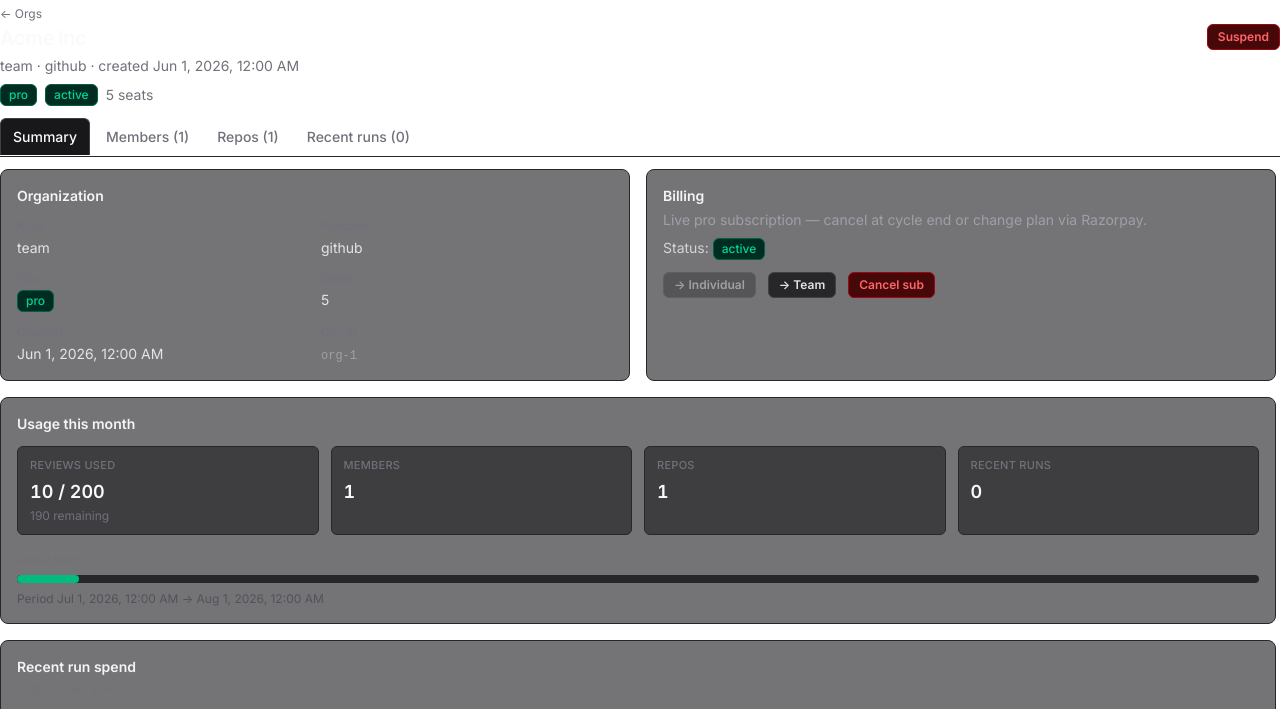
Test case: OrgDetail page › suspends an org with a reason and refreshes the data
The width and height of the screenshot is (1280, 709).
Click the button "Suspend" at (1243, 37), box [1207,24,1279,50]
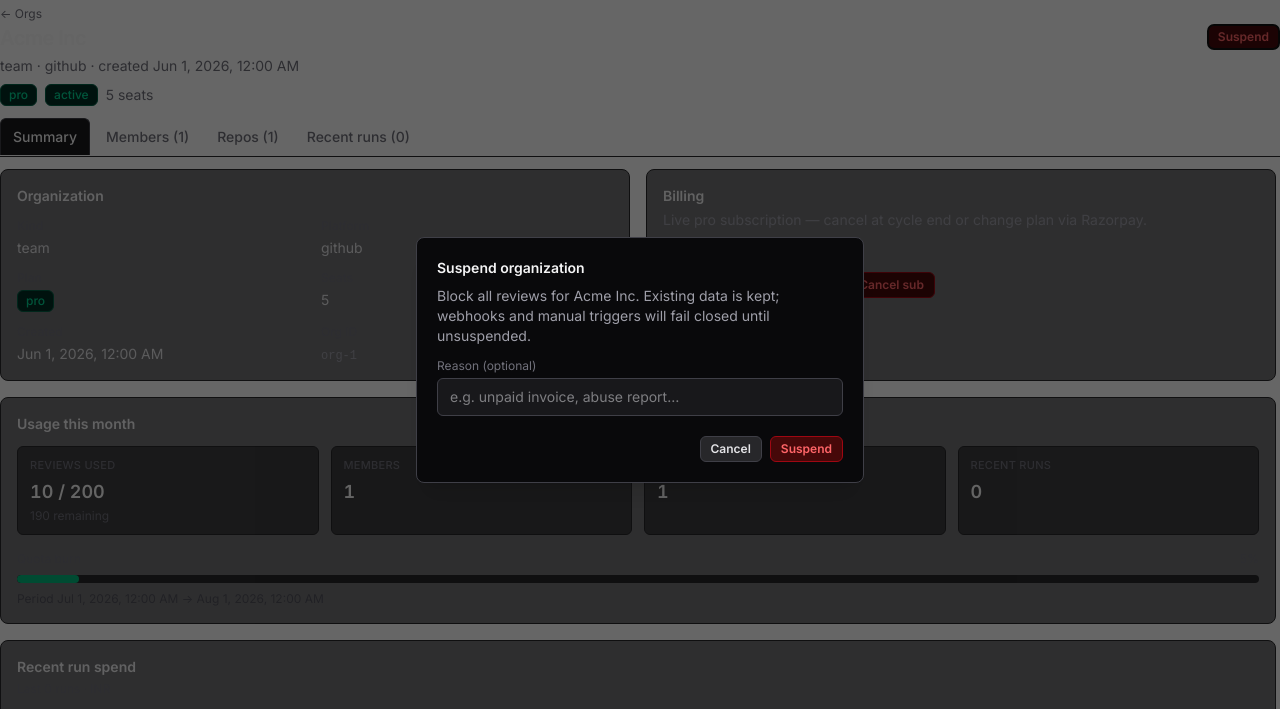
Type "abuse report" into the field labelled "Reason (optional)" at (640, 397), box [437,378,843,416]
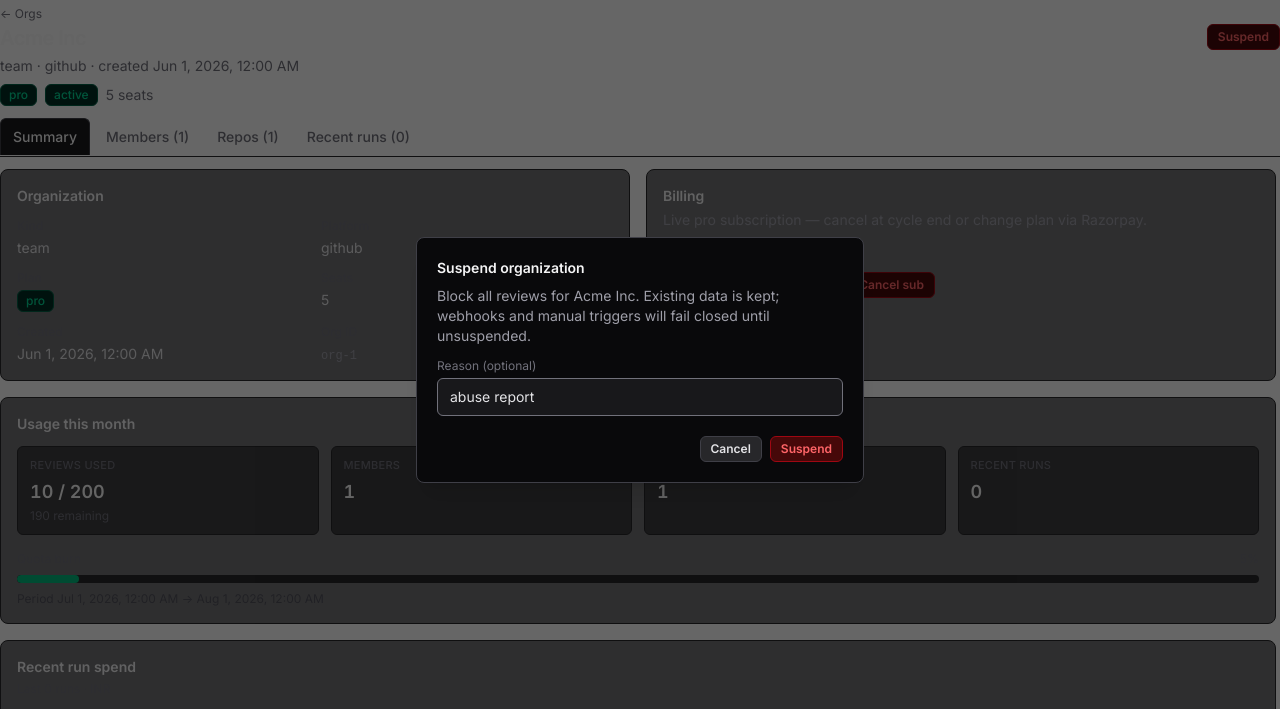
Click the button "Suspend" at (806, 449), box [770,436,843,462]
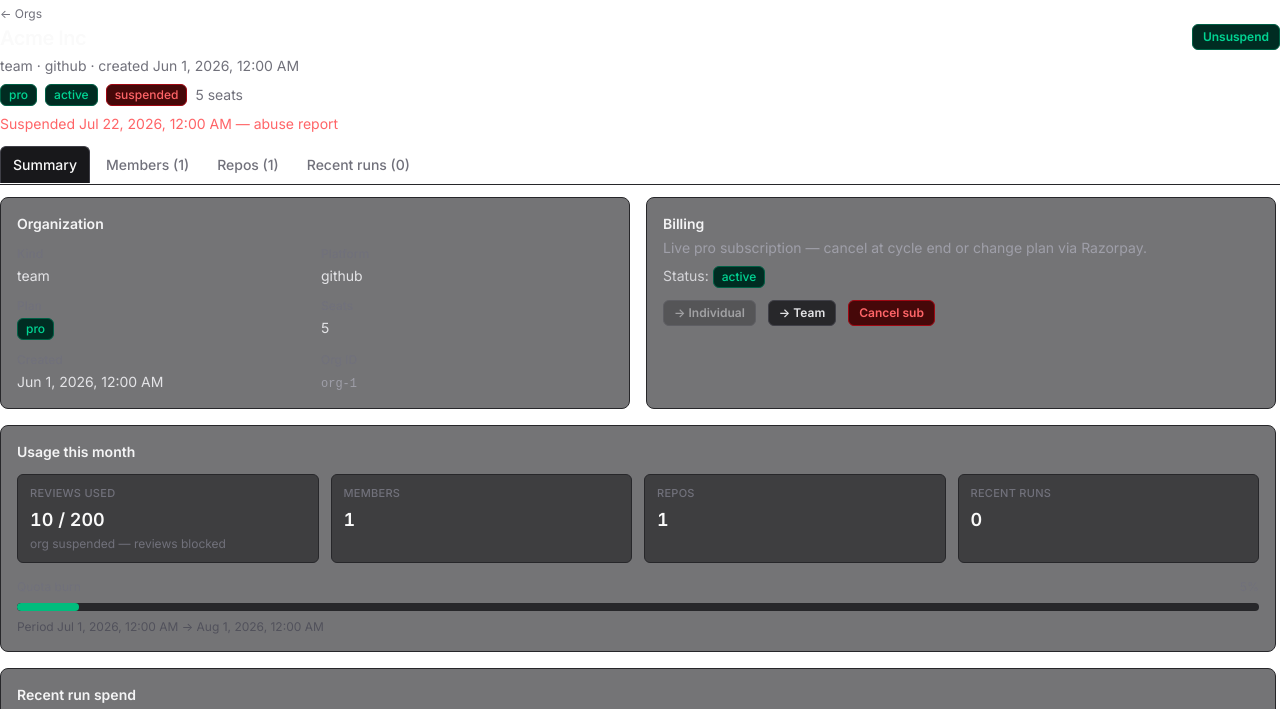
expect the text "suspended" is shown: met, box [106,84,187,106]
expect the text "Suspended Jul 22, 2026, 12:00 AM — abuse report" is shown: met, box [0,115,338,132]
